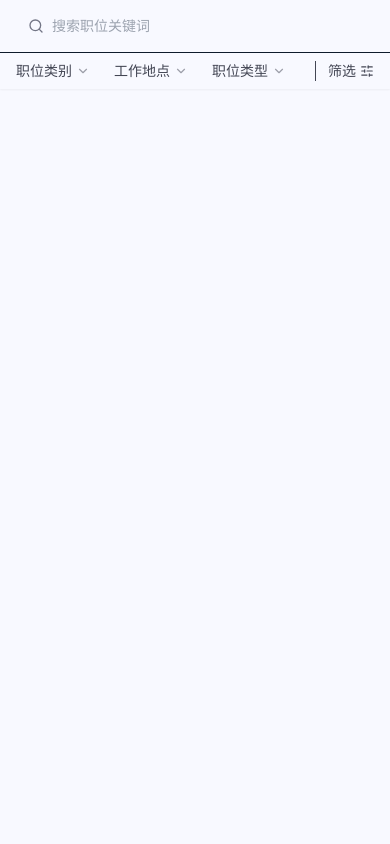
Test: user jobs page filters › keeps advanced category menu visible when viewing industry panel in mobile filter
Click the button "筛选". click: (351, 71)
box: [328, 61, 374, 81]
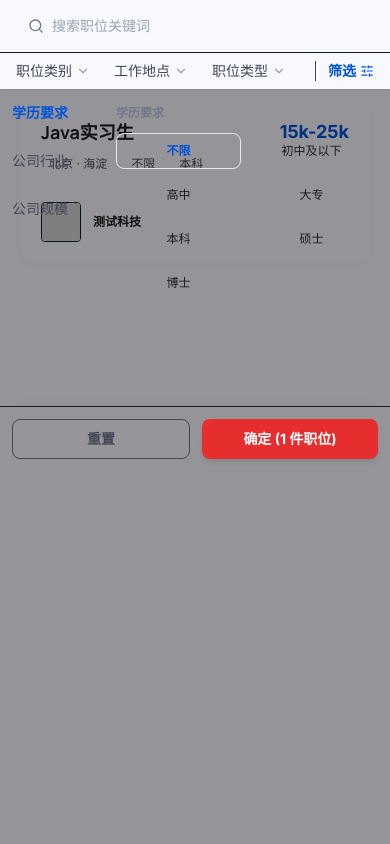
Click the button "公司行业". click: (50, 161)
box: [0, 137, 100, 185]
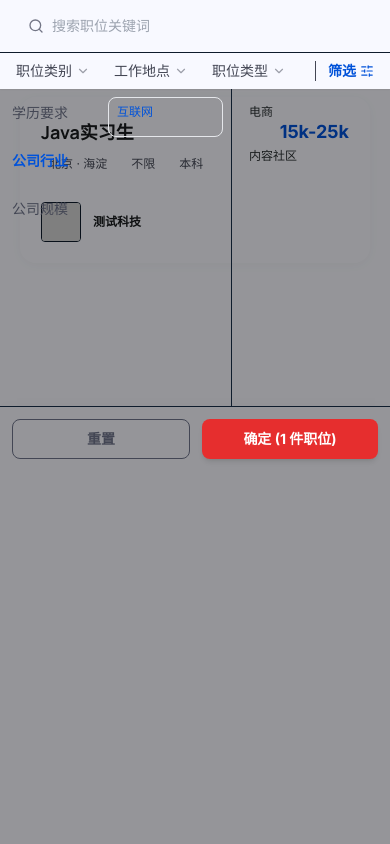
Now the element with test id "mobile-advanced-category-menu" is shown, box [0, 89, 100, 233]
Now the element with test id "mobile-advanced-industry-root-column" is shown, box [100, 89, 232, 406]
Now the element with test id "mobile-advanced-industry-leaf-column" is shown, box [240, 97, 382, 181]
